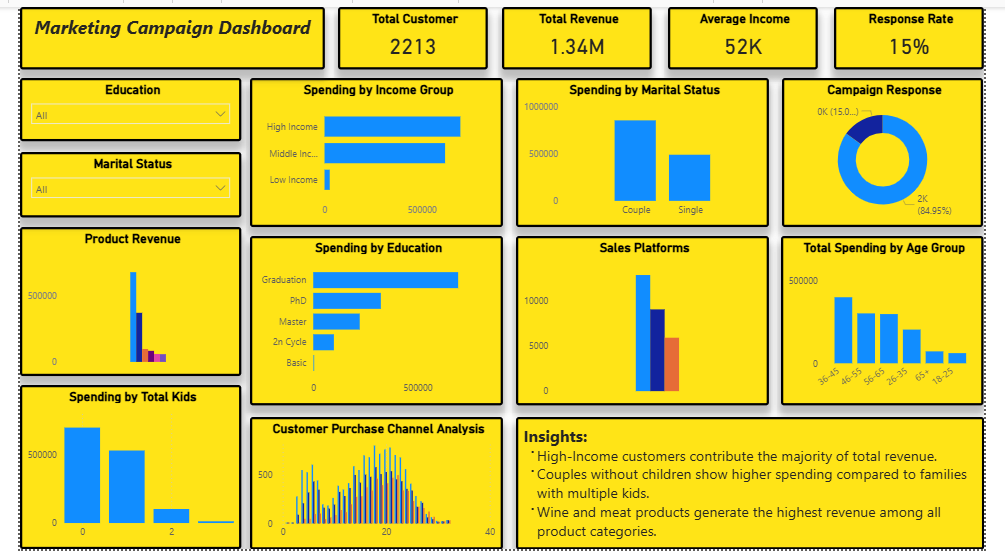

The dashboard page shown, as its layout file describes it:
{"tool":"powerbi","page":{"name":"Page 1","canvas":[1280,720],"ordinal":0},"visuals":[{"type":"card","title":"Total Customer","fields":{"Values":["marketing_campaign_analysis marketing_campaign.Total Customer"]},"box":[422.6,0,199,82.8],"z":0},{"type":"card","title":"Total Revenue","fields":{"Values":["Sum(marketing_campaign_analysis marketing_campaign.Total_Spending)"]},"box":[640.9,0,199,82.8],"z":1000},{"type":"card","title":"Response Rate","fields":{"Values":["marketing_campaign_analysis marketing_campaign.Response Rate"]},"box":[1081,0,199,82.8],"z":2000},{"type":"card","title":"Average Income","fields":{"Values":["marketing_campaign_analysis marketing_campaign.Average Income"]},"box":[861,0,199,82.8],"z":3000},{"type":"clusteredColumnChart","title":"Product Revenue","fields":{"Y":["marketing_campaign_analysis marketing_campaign.Wine Revenue","marketing_campaign_analysis marketing_campaign.Meat Revenue","marketing_campaign_analysis marketing_campaign.Gold Prds Revenue","marketing_campaign_analysis marketing_campaign.Fish Revenue","marketing_campaign_analysis marketing_campaign.Sweet Revenue","marketing_campaign_analysis marketing_campaign.Fruit Revenue"]},"box":[0,292.3,294,198.2],"z":4000},{"type":"barChart","title":"Spending by Income Group","fields":{"Category":["marketing_campaign_analysis marketing_campaign.Income_Category"],"Y":["Sum(marketing_campaign_analysis marketing_campaign.Total_Spending)"]},"box":[305.7,94.1,336,198.2],"z":5000},{"type":"columnChart","title":"Spending by Marital Status","fields":{"Category":["marketing_campaign_analysis marketing_campaign.maritalstatus"],"Y":["Sum(marketing_campaign_analysis marketing_campaign.Total_Spending)"]},"box":[658.5,94.1,336,198.2],"z":6000},{"type":"clusteredColumnChart","title":"Spending by Total Kids","fields":{"Category":["marketing_campaign_analysis marketing_campaign.Total_Children"],"Y":["Sum(marketing_campaign_analysis marketing_campaign.Total_Spending)"]},"box":[0,502.3,294,218.4],"z":7000},{"type":"donutChart","title":"Campaign Response","fields":{"Category":["marketing_campaign_analysis marketing_campaign.Response"],"Y":["marketing_campaign_analysis marketing_campaign.Total Customer"]},"box":[1012.9,94.1,267.1,198.2],"z":8000},{"type":"barChart","title":"Spending by Education","fields":{"Y":["Sum(marketing_campaign_analysis marketing_campaign.Total_Spending)"],"Category":["marketing_campaign_analysis marketing_campaign.Education"]},"box":[305.7,304,336,225.1],"z":9000},{"type":"clusteredColumnChart","title":"Sales Platforms","fields":{"Y":["Sum(marketing_campaign_analysis marketing_campaign.NumStoresPurchases)","Sum(marketing_campaign_analysis marketing_campaign.NumWebPurchases)","Sum(marketing_campaign_analysis marketing_campaign.NumCatalogPurchases)"]},"box":[658.5,304,336,225.1],"z":10000},{"type":"clusteredColumnChart","title":" Total Spending by Age Group","fields":{"Y":["Sum(marketing_campaign_analysis marketing_campaign.Total_Spending)"],"Category":["marketing_campaign_analysis marketing_campaign.Age Group"]},"box":[1011.2,304,268.8,225.1],"z":11000},{"type":"textbox","box":[0,0,405,82.8],"z":12000},{"type":"slicer","title":"Education","fields":{"Values":["marketing_campaign_analysis marketing_campaign.Education"]},"box":[0,94.1,294,84],"z":12001},{"type":"slicer","title":"Marital Status","fields":{"Values":["marketing_campaign_analysis marketing_campaign.maritalstatus"]},"box":[0,193.2,294,87.3],"z":12002},{"type":"clusteredColumnChart","title":"Customer Purchase Channel Analysis","fields":{"Y":["Sum(marketing_campaign_analysis marketing_campaign.NumStoresPurchases)","Sum(marketing_campaign_analysis marketing_campaign.NumWebPurchases)","Sum(marketing_campaign_analysis marketing_campaign.NumCatalogPurchases)"],"Category":["marketing_campaign_analysis marketing_campaign.Total_Purchases"]},"box":[305.7,544.3,336,176.4],"z":12003},{"type":"textbox","box":[658.5,544.3,621.5,176.4],"z":12004}]}

Visuals, with their boxes in screenshot pixels (x1, y1, x2, y2), scaled from the page's 1280x720 canvas onto the 1005x553 screenshot:
"Total Customer" card: l=332, t=0, r=488, b=64
"Total Revenue" card: l=503, t=0, r=659, b=64
"Response Rate" card: l=849, t=0, r=1004, b=64
"Average Income" card: l=676, t=0, r=832, b=64
"Product Revenue" clusteredColumnChart: l=0, t=225, r=231, b=377
"Spending by Income Group" barChart: l=240, t=72, r=504, b=225
"Spending by Marital Status" columnChart: l=517, t=72, r=781, b=225
"Spending by Total Kids" clusteredColumnChart: l=0, t=386, r=231, b=552
"Campaign Response" donutChart: l=795, t=72, r=1004, b=225
"Spending by Education" barChart: l=240, t=233, r=504, b=406
"Sales Platforms" clusteredColumnChart: l=517, t=233, r=781, b=406
" Total Spending by Age Group" clusteredColumnChart: l=794, t=233, r=1004, b=406
textbox: l=0, t=0, r=318, b=64
"Education" slicer: l=0, t=72, r=231, b=137
"Marital Status" slicer: l=0, t=148, r=231, b=215
"Customer Purchase Channel Analysis" clusteredColumnChart: l=240, t=418, r=504, b=552
textbox: l=517, t=418, r=1004, b=552
